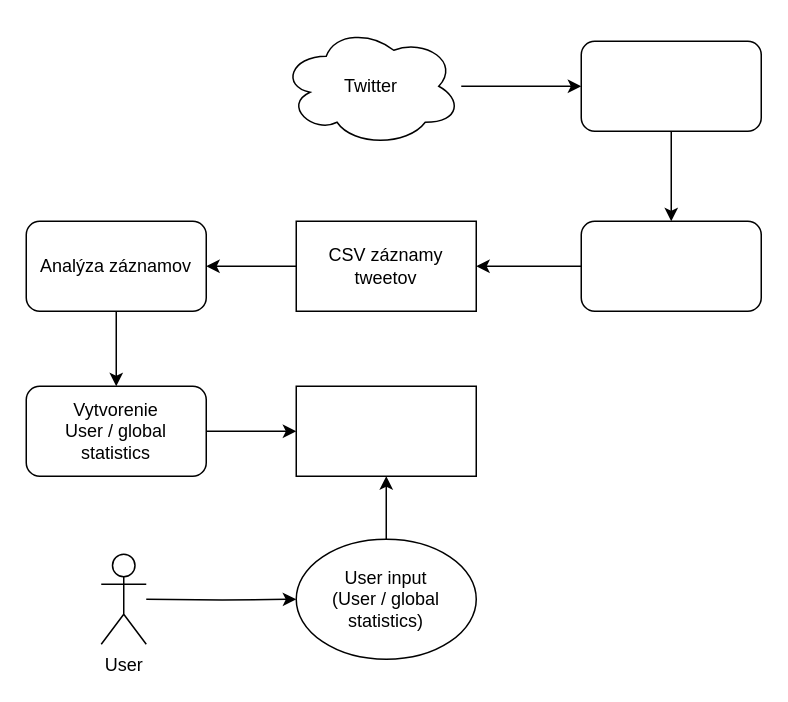
Image size: 788x702. Some labels were removed from this diagram. Here are the shapes that lost their labels. From the top down, the box of each, then its label:
(580, 40, 761, 131): sťahovač Twitter streamu
(580, 220, 761, 311): Predspracovanie streamu JSON » CSV
(295, 385, 476, 476): Output podľa voľby používateľa
